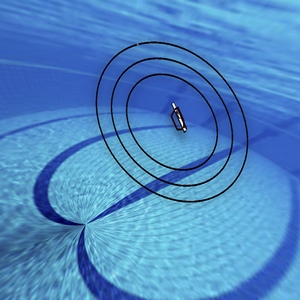circle: (80, 29, 261, 207)
submarine: (160, 92, 194, 137)
